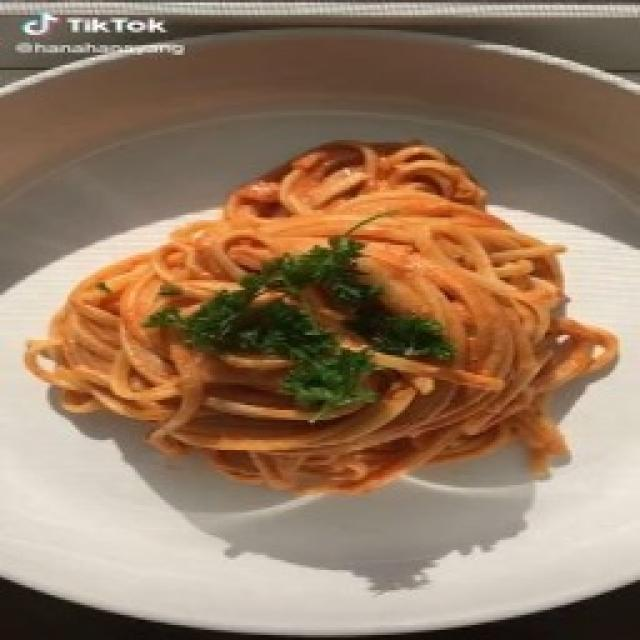Pasta: (28, 141, 618, 492)
